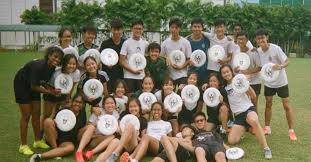disc: (56, 109, 77, 131), (120, 116, 139, 136), (262, 63, 280, 83), (84, 81, 103, 99), (98, 115, 116, 134), (204, 87, 221, 107), (165, 93, 181, 114), (55, 74, 72, 93), (181, 86, 199, 103), (140, 93, 155, 113), (101, 49, 119, 65), (233, 74, 249, 92), (235, 54, 251, 71), (130, 55, 147, 71), (210, 45, 225, 63), (192, 51, 208, 66), (172, 51, 185, 69), (87, 50, 100, 67), (226, 147, 243, 159), (64, 48, 78, 61)
